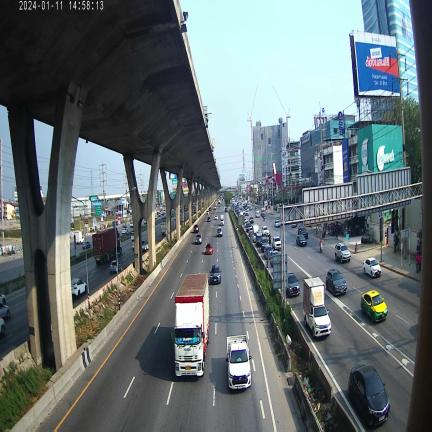car: (348, 365, 390, 426), (326, 269, 347, 296), (363, 257, 381, 277), (286, 273, 300, 296), (335, 243, 351, 263), (71, 278, 86, 297), (209, 264, 221, 284), (269, 250, 279, 267), (110, 260, 122, 274), (261, 236, 270, 253), (263, 245, 273, 259), (296, 234, 307, 246), (272, 236, 281, 250), (298, 227, 308, 239), (261, 226, 270, 237), (205, 243, 213, 254), (82, 241, 91, 249), (195, 234, 202, 244), (193, 224, 199, 233), (217, 227, 222, 237), (121, 227, 128, 234), (274, 219, 280, 227), (249, 216, 254, 224), (270, 246, 271, 247)
motorbike: (319, 243, 323, 252)
taxi: (361, 290, 388, 322)
truck: (174, 274, 209, 376), (303, 277, 331, 337), (226, 335, 251, 389), (92, 228, 122, 264), (74, 230, 84, 244), (255, 230, 262, 248), (252, 224, 259, 242), (161, 221, 166, 236), (220, 214, 224, 225), (218, 199, 221, 206)
